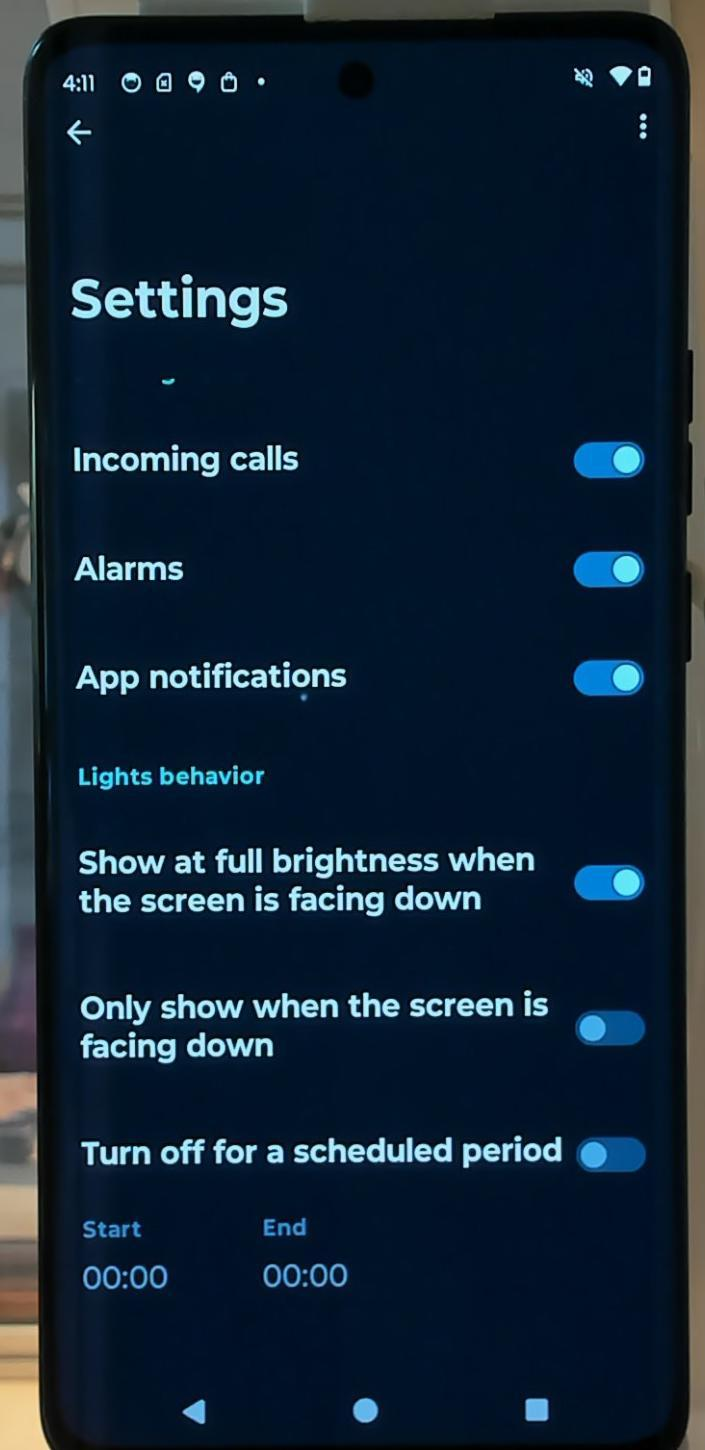Checkbox: (65, 833, 659, 930), (65, 975, 663, 1070), (70, 1110, 659, 1201), (55, 423, 648, 510), (58, 640, 654, 708), (68, 533, 648, 601)
